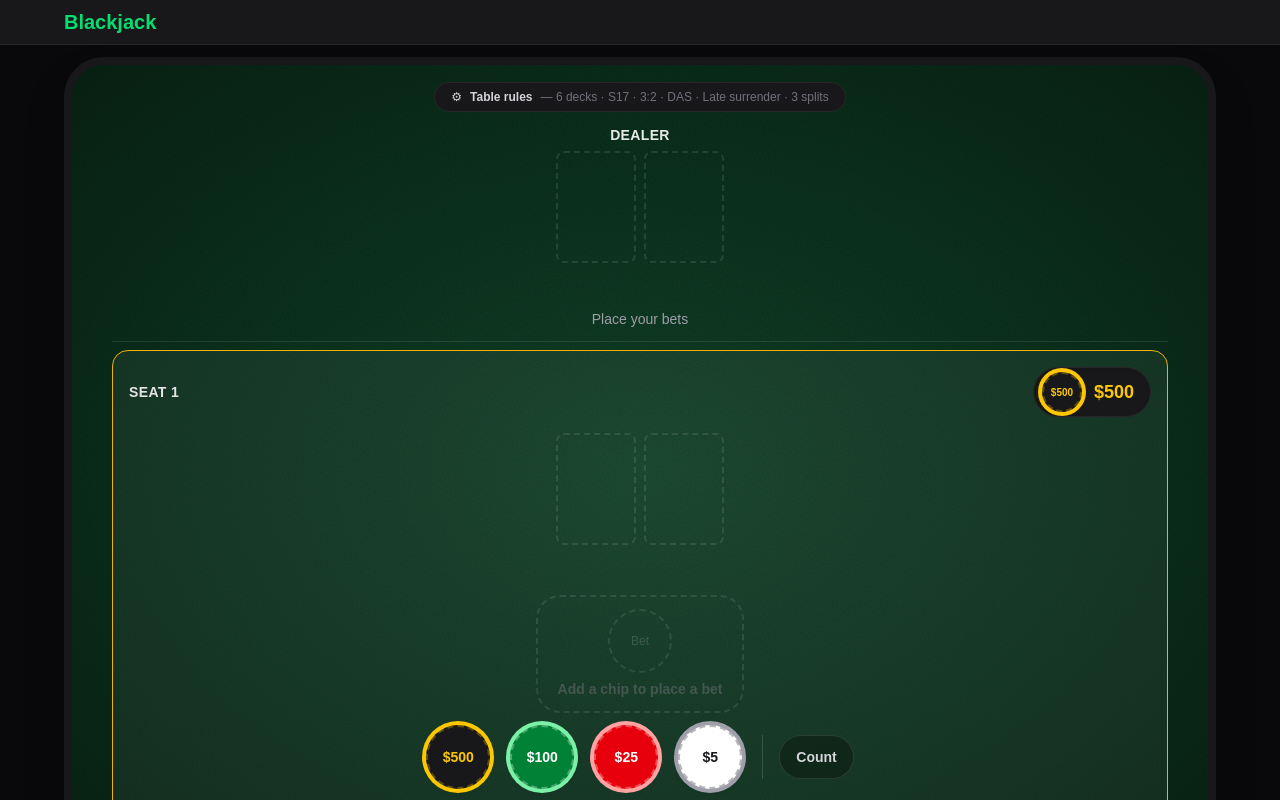
Test case: insurance decision row meets the touch-target standard PR #21 established › Insurance and No insurance are 44px tall and share the action row's 16px gap
Click the button named "Add $100 chip" at [542, 757], box 510,725 -> 574,789
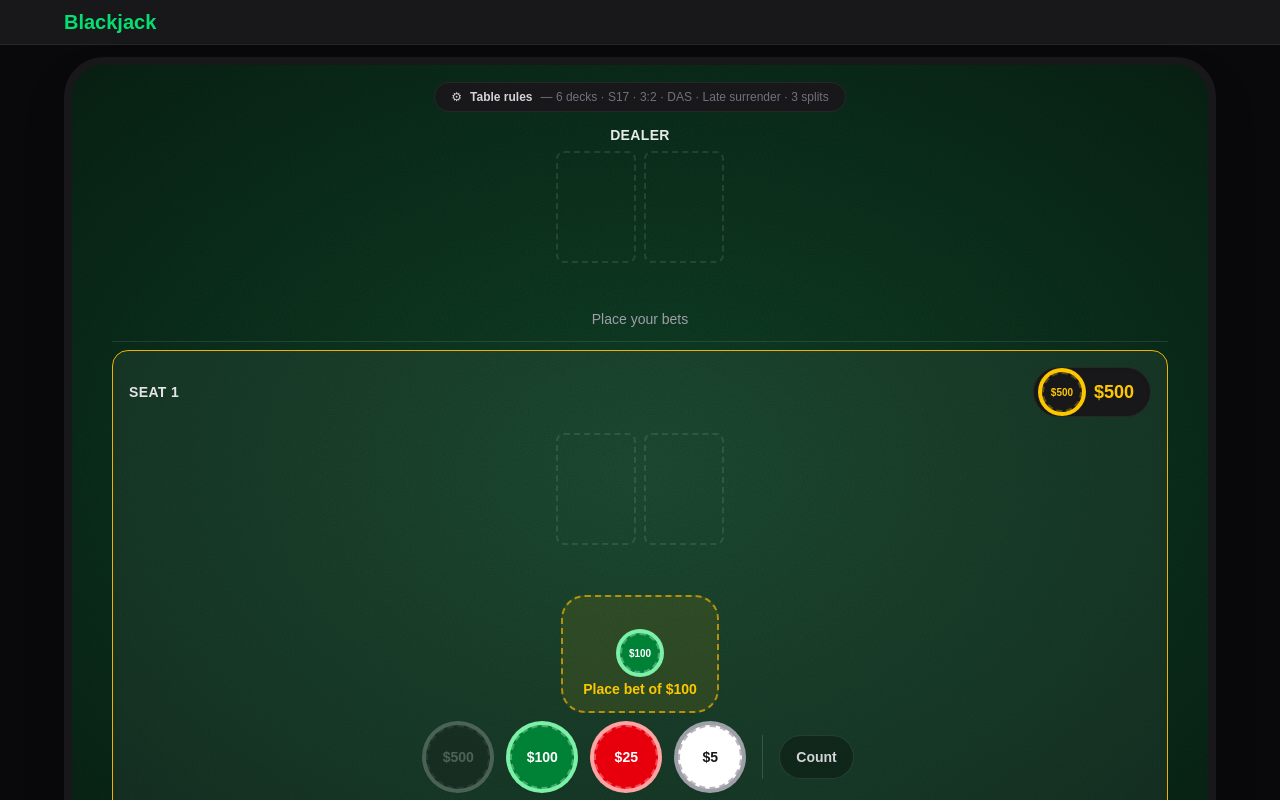
Click the button "$100 Place bet of $100" at [640, 654], box 561,595 -> 719,713
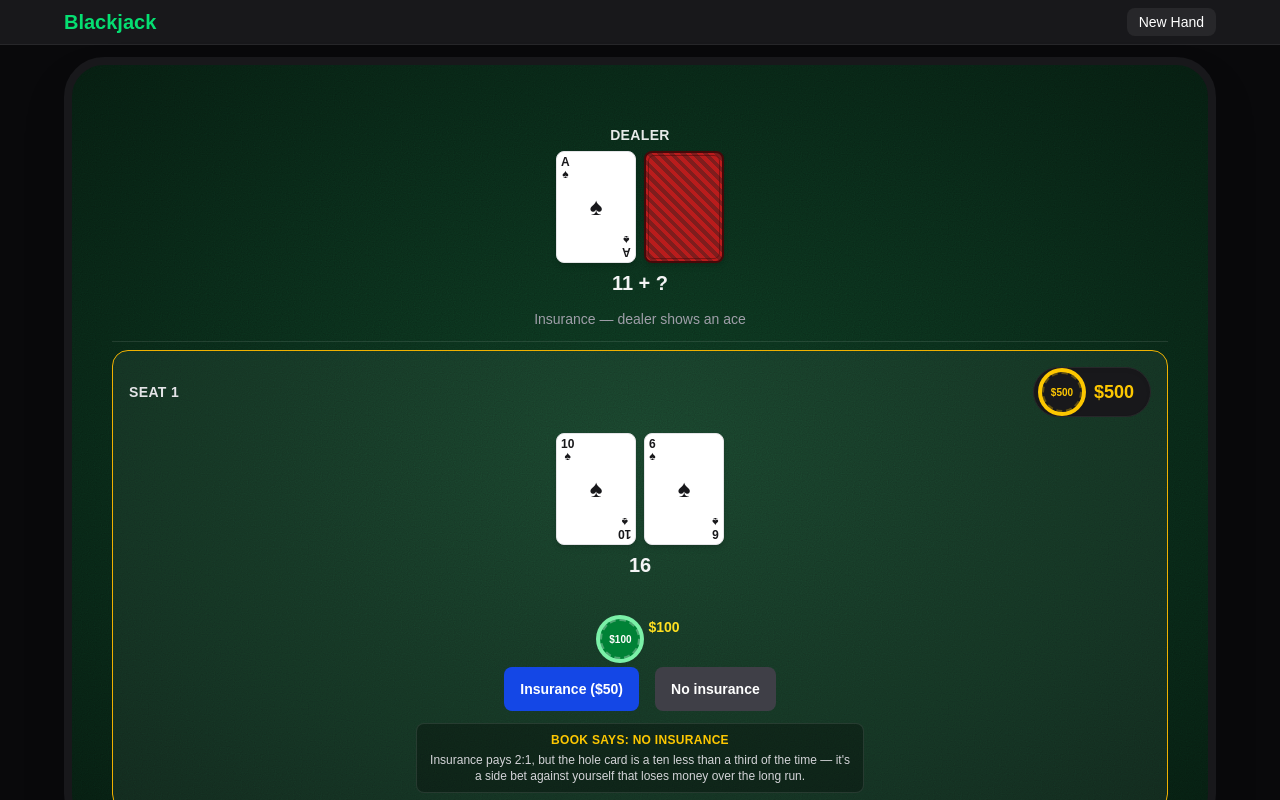
Check: the text "Insurance — dealer shows an ace" is shown, box 534,311 -> 746,327
